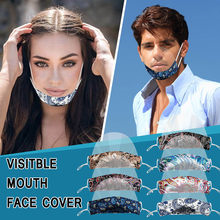mask_weared_incorrect: (22, 28, 91, 109), (134, 20, 191, 82)
